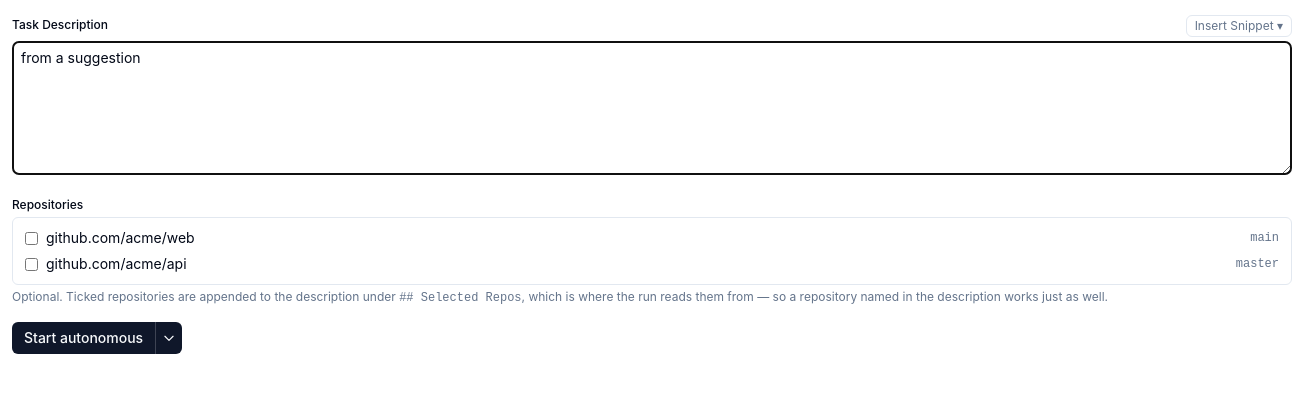
Test: NewWorkspaceForm › empties the request it just started
Click the checkbox labelled "github.com/acme/web main": (32, 238) [25, 232, 38, 244]
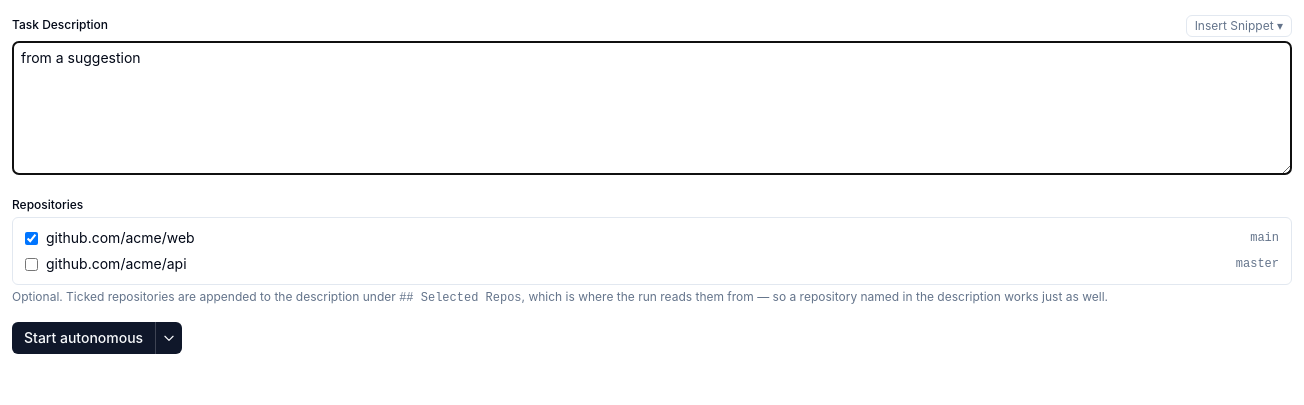
Click the button "Start autonomous": (84, 338) [12, 322, 155, 354]
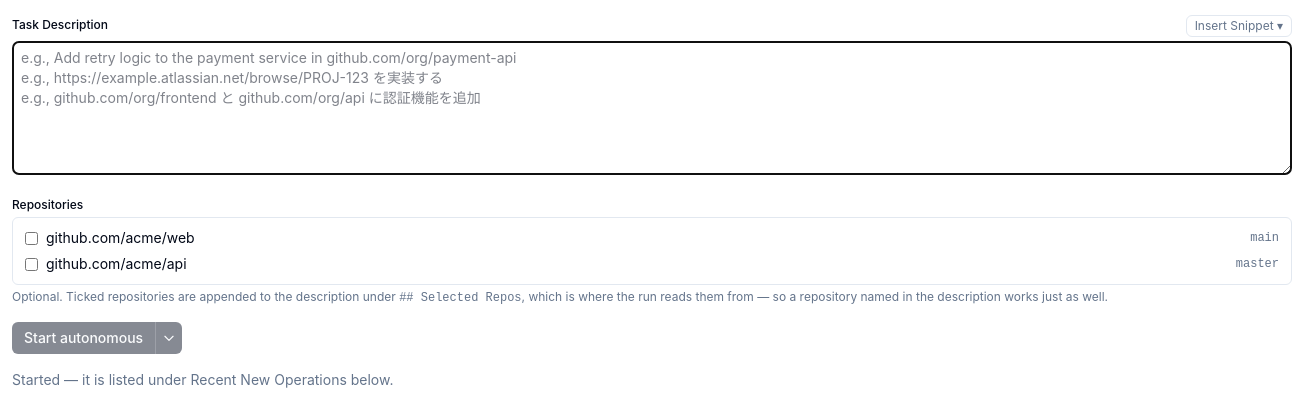
Expected: the checkbox labelled "github.com/acme/web main" is not checked, [25, 232, 38, 244]
Expected: the text box labelled "Task Description" is empty, [12, 41, 1292, 175]
